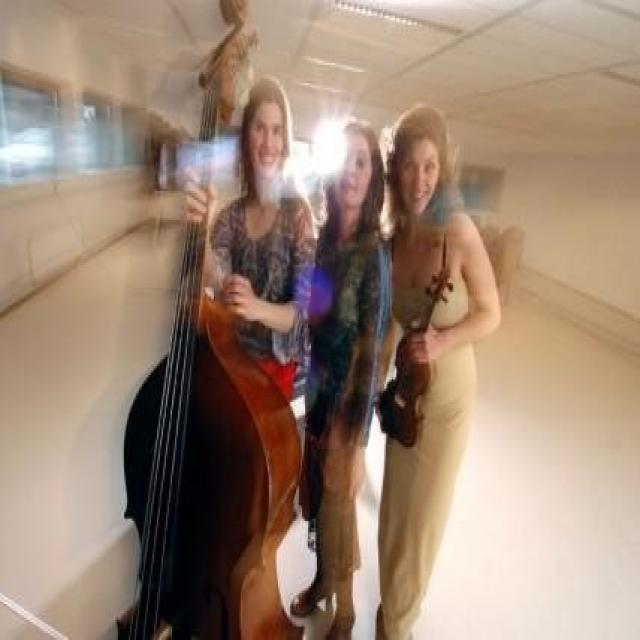violin: (371, 264, 457, 443)
